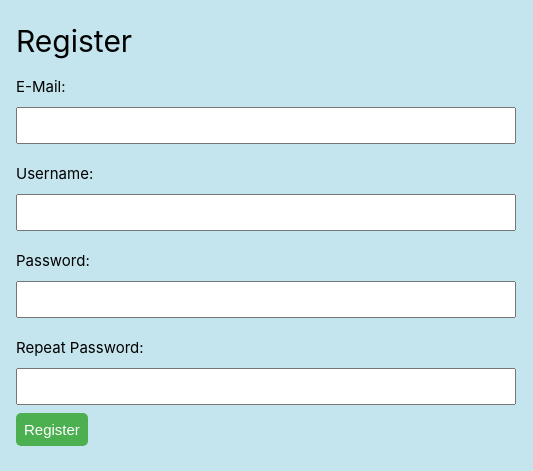
Register.vue › shows error message if passwords do not match
Type "password1" into the password field labelled "Password:". click: (266, 299)
box: [16,280,516,318]
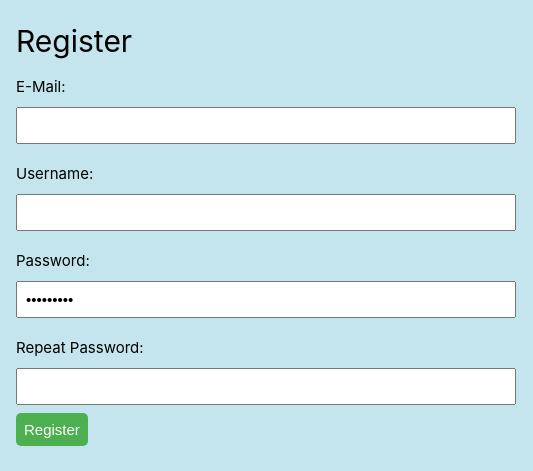
Type "password2" into the password field with id "repeatPassword". click: (266, 386)
box: [16,368,516,404]
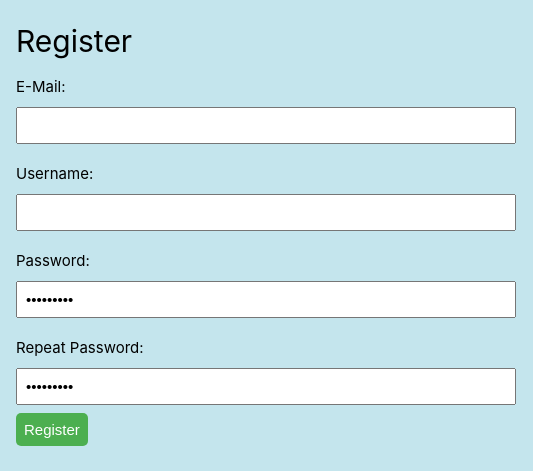
Submit the form
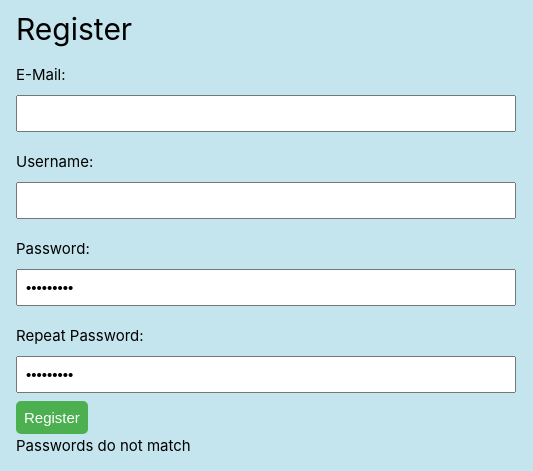
Now the text "Passwords do not match" is shown, box [16,436,191,454]
